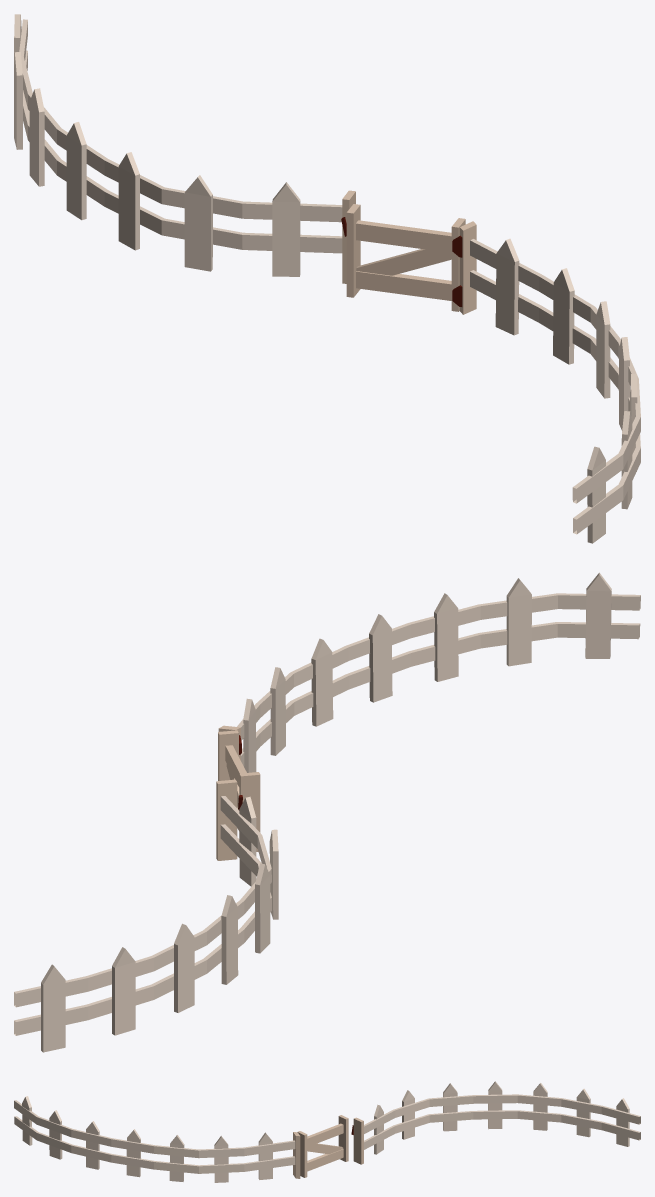
The model's file is Fense_long.fbx.
3 views of the same model, one above another, from view 1: azimuth 30°, elevation 25°; view 2: azimuth 150°, elevation 25°; view 3: azimuth 270°, elevation 25° (orthographic). The views are drawn at different scales.
Parts seen in each view (by area): view 1: Cube.003; view 2: Cube.003; view 3: Cube.003.
Boxes of the visible parts, box(x1,y1,x2,y2) form: Cube.003: box(14, 14, 640, 543); Cube.003: box(14, 572, 640, 1052); Cube.003: box(14, 1081, 640, 1182).
Bounding box in the file's own units: 413 × 159 × 1928.
